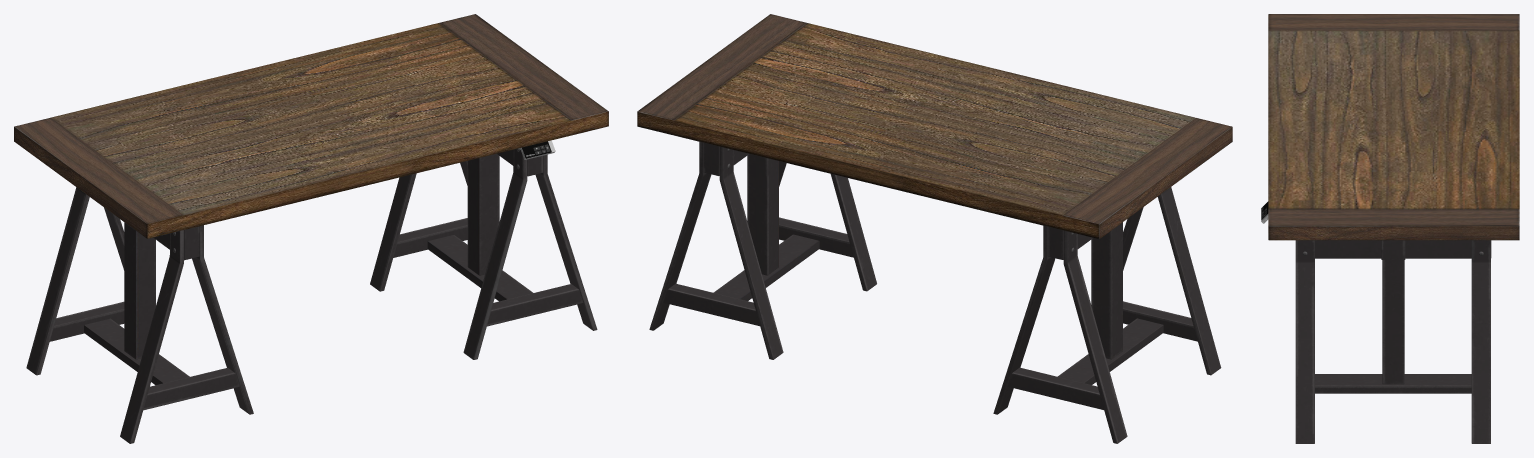
File: desk_B07B7DFS3S.glb
The picture shows the model from 3 angles, left to right: view 1: azimuth 30°, elevation 25°; view 2: azimuth 150°, elevation 25°; view 3: azimuth 270°, elevation 25°; orthographic projection. The views are drawn at different scales.
Parts seen in each view (by area): view 1: RootNode; view 2: RootNode; view 3: RootNode.
Boxes of the visible parts, left/top/right/bottom form: RootNode: left=14, top=14, right=608, bottom=443; RootNode: left=637, top=14, right=1232, bottom=443; RootNode: left=1261, top=14, right=1519, bottom=443.
Size of the model in its own units: 1.54 by 0.7252 by 0.7836.
Materials: 1 (1 with a texture image).
